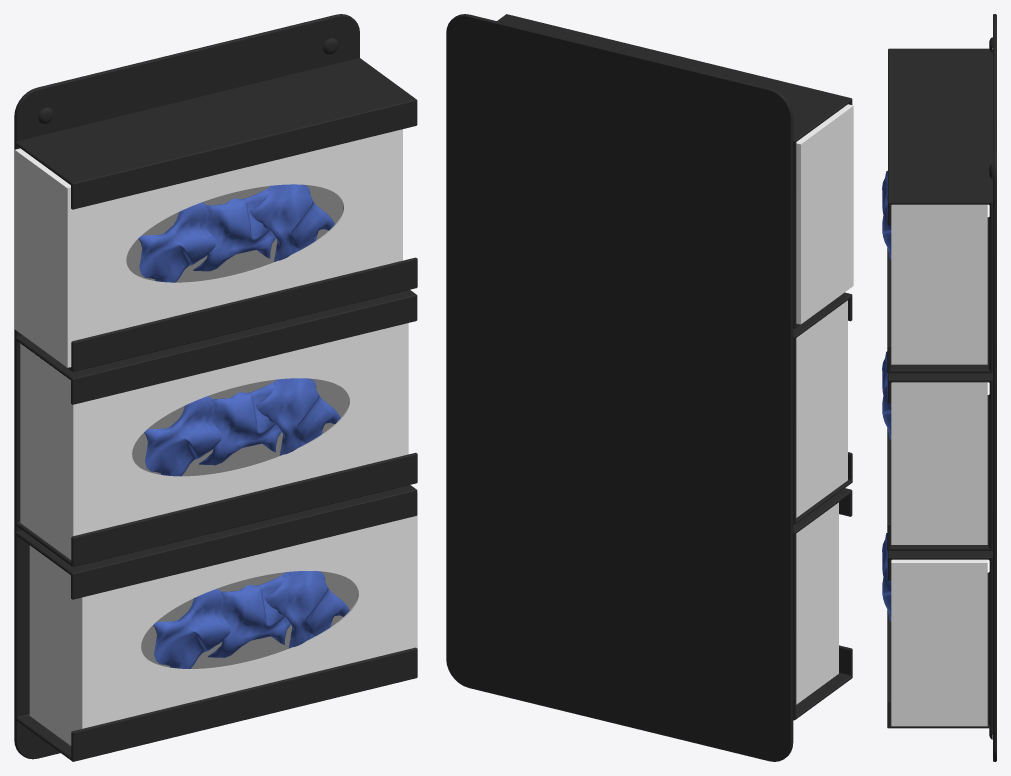
The model's file is latex_gloves.fbx.
The picture shows the model from 3 angles, left to right: view 1: azimuth 30°, elevation 25°; view 2: azimuth 150°, elevation 25°; view 3: azimuth 270°, elevation 25°; orthographic projection. The views are drawn at different scales.
Parts seen in each view (by area): view 1: latex_gloves; view 2: latex_gloves; view 3: latex_gloves.
Part boxes in pixels (left/top/right/bottom): latex_gloves: left=14, top=14, right=417, bottom=761; latex_gloves: left=446, top=14, right=853, bottom=761; latex_gloves: left=882, top=14, right=996, bottom=761.
Bounding box in the file's own units: 22.69 × 41.51 × 7.08.
1 material, 1 textured.
